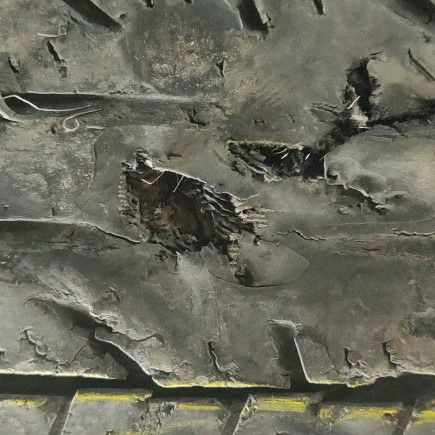tr: (215, 46, 396, 223), (115, 147, 276, 292)
